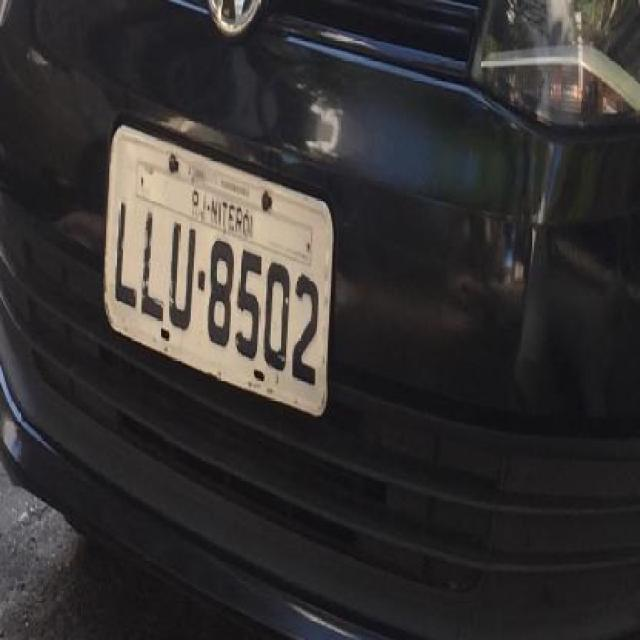old_plate: (92, 119, 341, 423)
